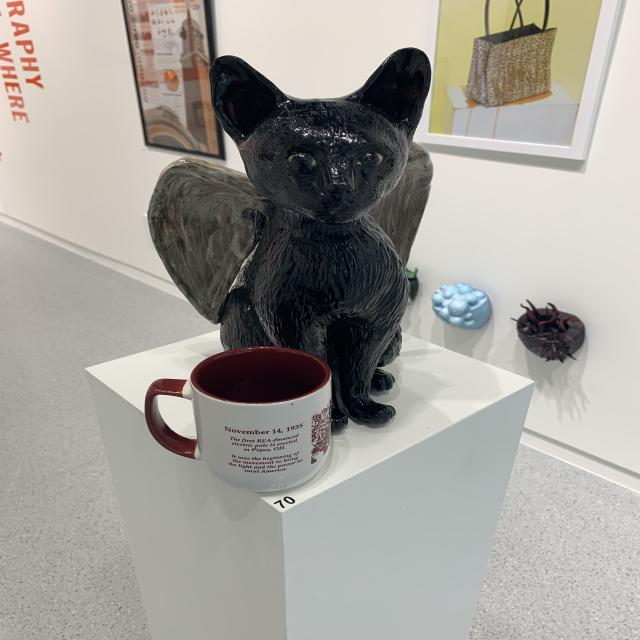Cup: (140, 344, 343, 498)
